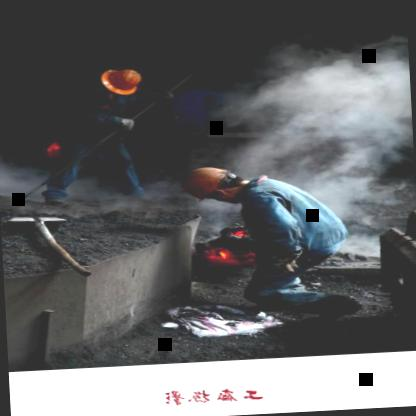helmet: (176, 163, 251, 206), (99, 67, 144, 100)
